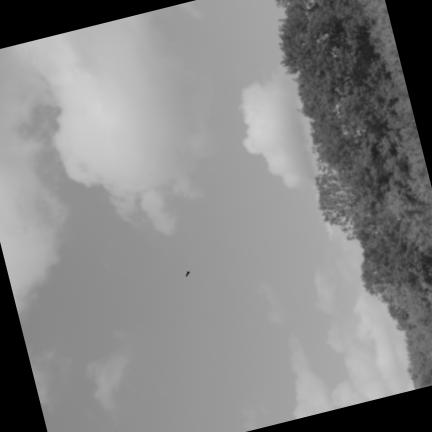Shahed: (184, 268, 191, 277)
